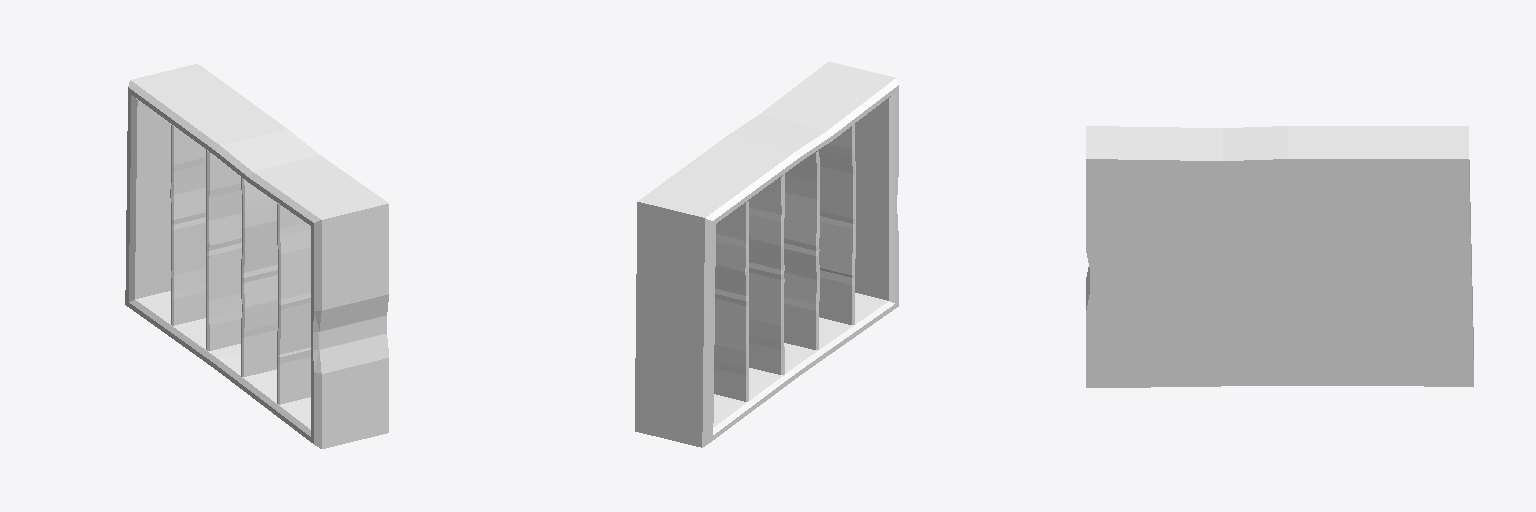
Rendered from Bookshelf.obj.
The picture shows the model from 3 angles: view 1: azimuth 30°, elevation 25°; view 2: azimuth 150°, elevation 25°; view 3: azimuth 270°, elevation 25°; orthographic projection.
Visible parts, largest first — view 1: SHELF_OBJ; view 2: SHELF_OBJ; view 3: SHELF_OBJ.
Boxes of the visible parts, x1,y1,x2,y2 form: SHELF_OBJ: [125, 64, 388, 448]; SHELF_OBJ: [635, 62, 898, 447]; SHELF_OBJ: [1086, 126, 1473, 387].
Size of the model in its own units: 0.4356 by 1.32 by 2.02.